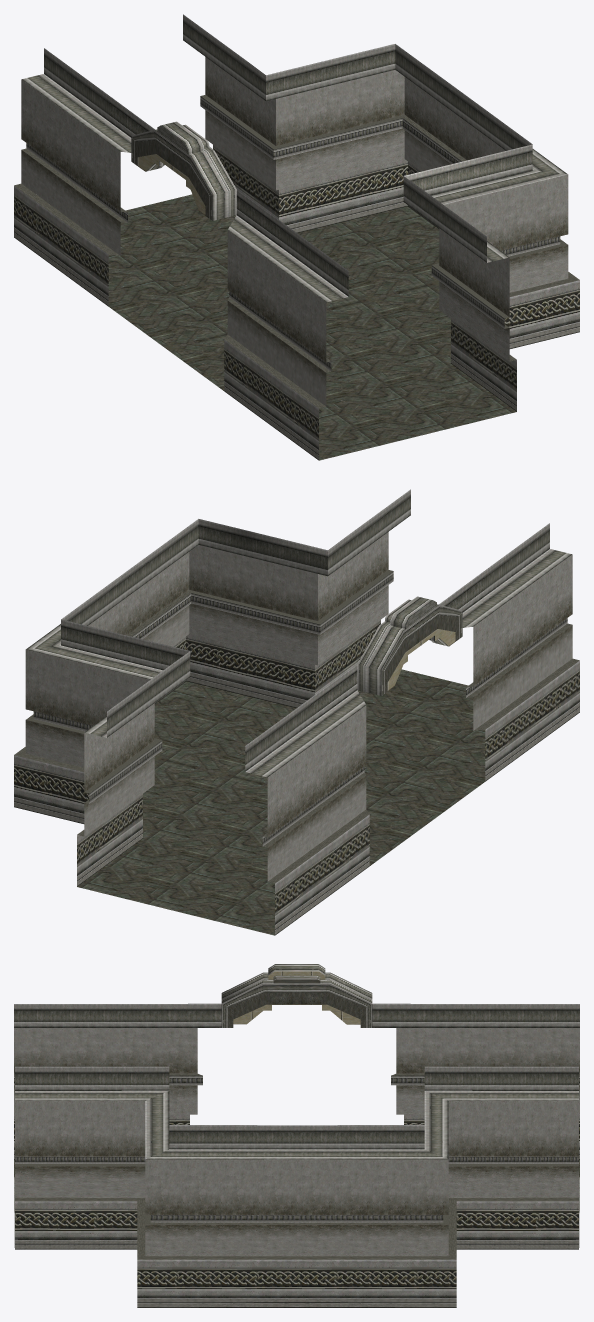
Rendered from DWARF_PALACE_EREBOR_ROOMD.fbx.
The picture shows the model from 3 angles, top to bottom: view 1: azimuth 30°, elevation 25°; view 2: azimuth 150°, elevation 25°; view 3: azimuth 270°, elevation 25°; orthographic projection. The views are drawn at different scales.
Visible parts, largest first — view 1: DWARF_PALACE_EREBOR_ROOMD; view 2: DWARF_PALACE_EREBOR_ROOMD; view 3: DWARF_PALACE_EREBOR_ROOMD.
Boxes of the visible parts, x1=… form: DWARF_PALACE_EREBOR_ROOMD: x1=14, y1=14, x2=579, y2=460; DWARF_PALACE_EREBOR_ROOMD: x1=14, y1=489, x2=579, y2=935; DWARF_PALACE_EREBOR_ROOMD: x1=14, y1=964, x2=579, y2=1307.
Size of the model in its own units: 131590 by 82013 by 212139.
Materials: 10 (10 with a texture image).
